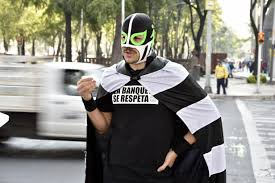mask: (115, 5, 160, 69)
